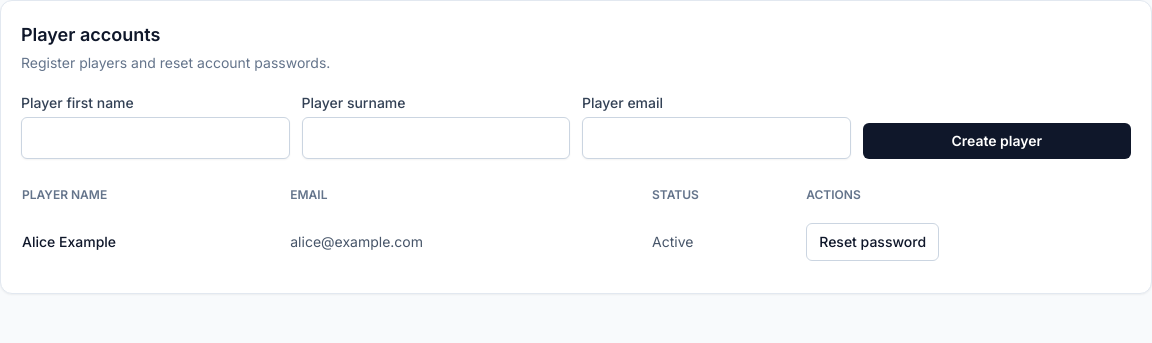
PlayerUsersPanel › shows create failures inline
This screenshot has width=1152, height=343.
Type "Alice" into the field labelled "Player first name" at (155, 138), box [21,117,290,159]
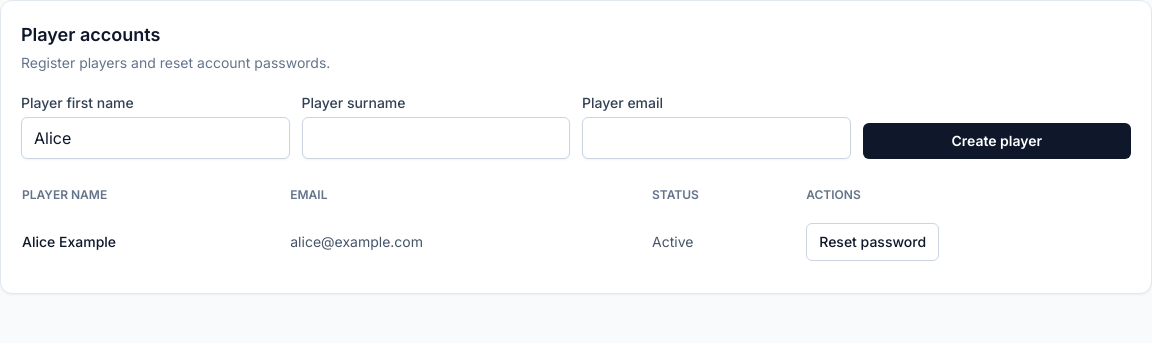
Type "alice@example.com" into the field labelled "Player email" at (716, 138), box [582,117,850,159]
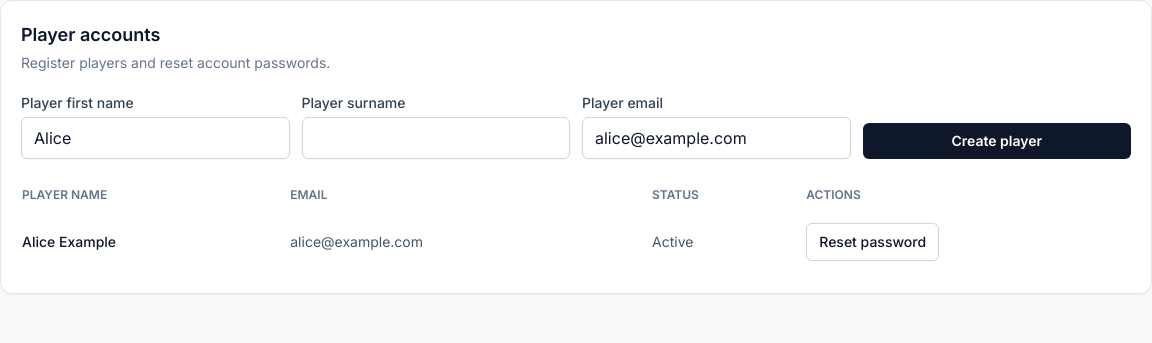
Click the button "Create player" at (997, 141), box [862,123,1131,159]
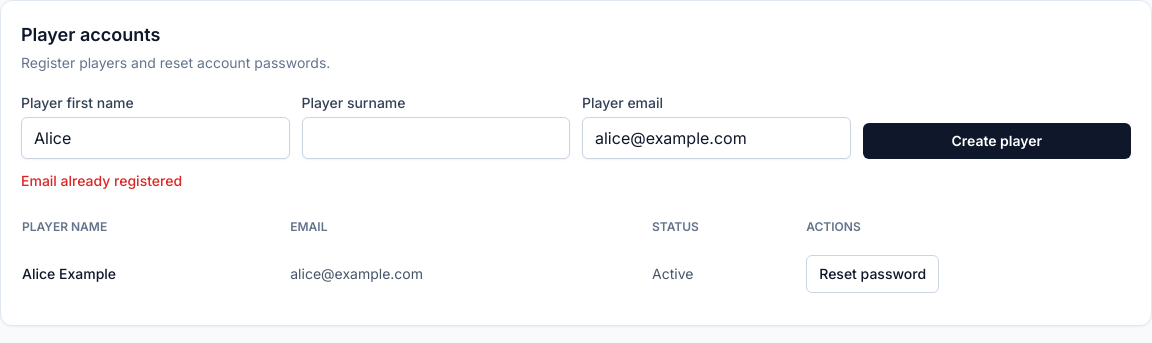
Check: the text "Email already registered" is shown, box [21,172,182,189]
